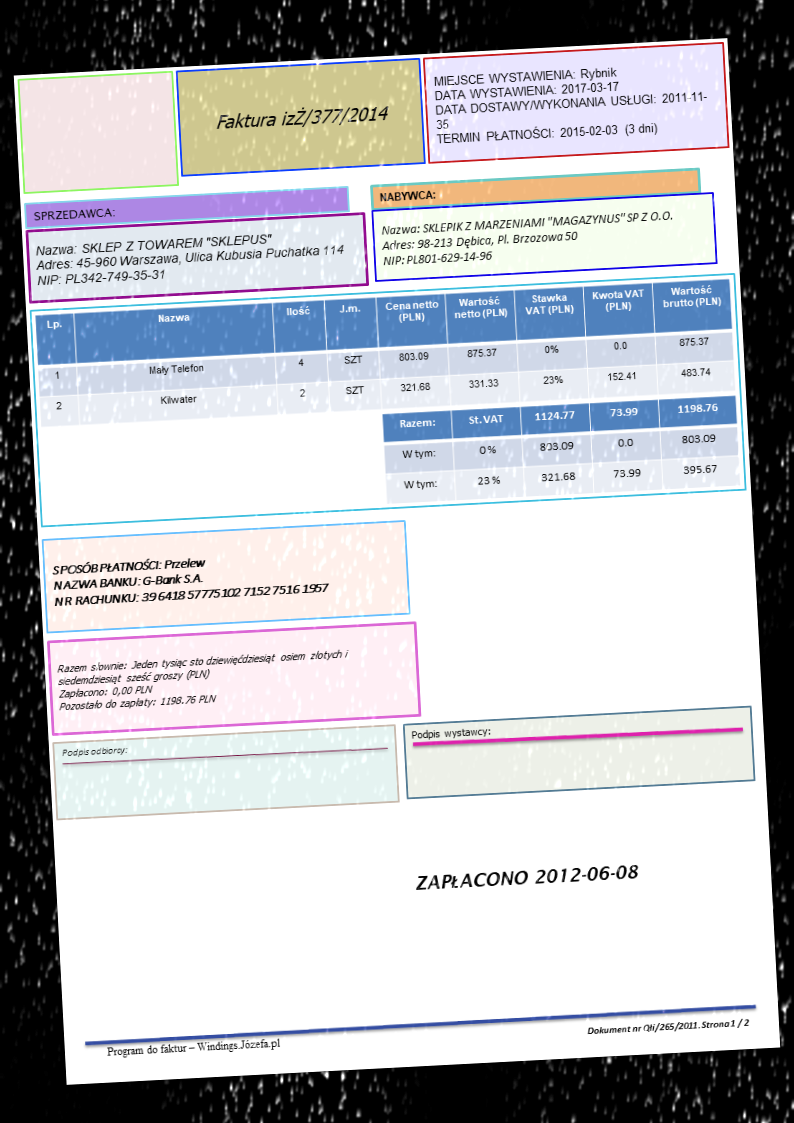Table: (33, 276, 737, 429), (379, 393, 743, 506)
TextBox: (431, 57, 713, 150), (55, 645, 356, 714), (32, 226, 347, 291), (378, 206, 677, 270), (49, 546, 331, 612), (413, 859, 640, 894), (211, 101, 393, 135), (104, 1032, 281, 1061), (584, 1013, 752, 1039), (29, 203, 117, 223), (407, 723, 493, 743), (59, 740, 129, 761), (376, 184, 437, 206)
